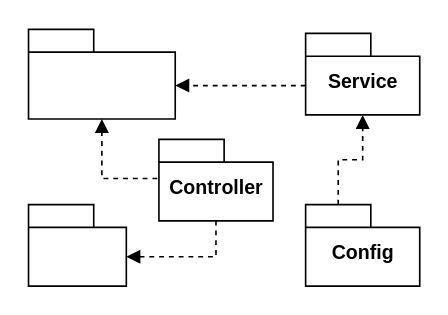
The diagram is 448 pixels wide and 315 high, and some of its shapes have lost their labels. Each missing label, with the centre of its shape:
DAO: point 101,73
Model: point 76,244
